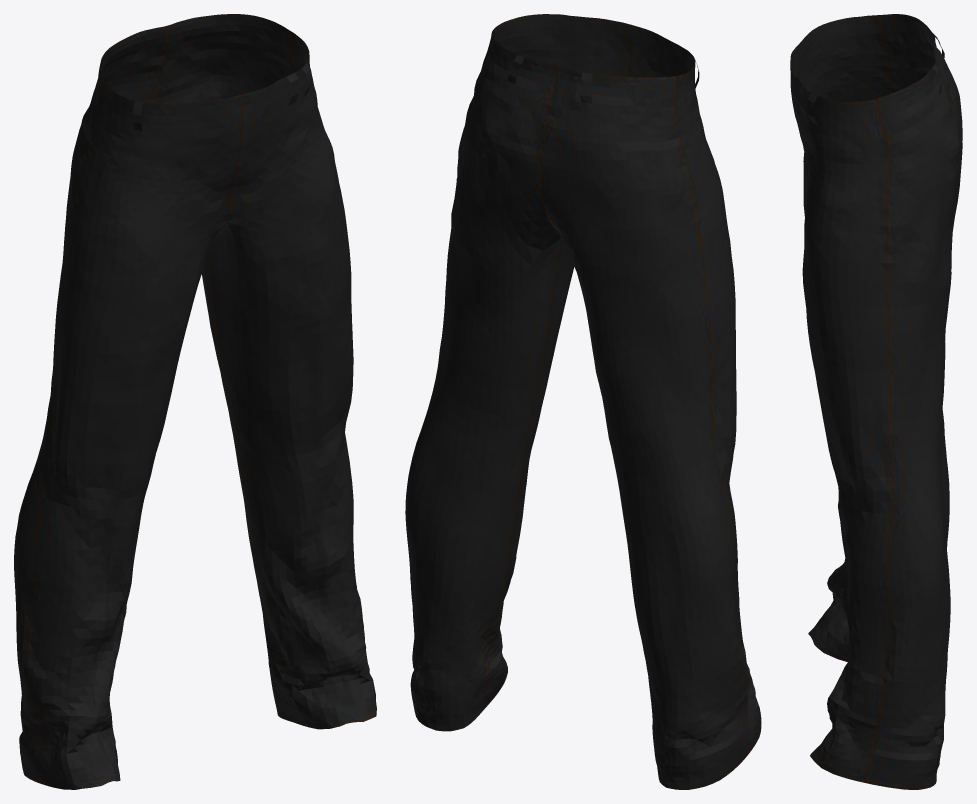
The model's file is mhw_mindfront_male_trousers_2.glb.
3 views of the same model, side by side, from view 1: azimuth 30°, elevation 25°; view 2: azimuth 150°, elevation 25°; view 3: azimuth 270°, elevation 25° (orthographic). The views are drawn at different scales.
Visible parts, largest first — view 1: mhw_mindfront_male_trousers_2; view 2: mhw_mindfront_male_trousers_2; view 3: mhw_mindfront_male_trousers_2.
Boxes of the visible parts, left/top/right/bottom form: mhw_mindfront_male_trousers_2: left=14, top=14, right=376, bottom=789; mhw_mindfront_male_trousers_2: left=405, top=14, right=761, bottom=789; mhw_mindfront_male_trousers_2: left=790, top=14, right=962, bottom=789.
Bounding box in the file's own units: 0.5392 × 1.1 × 0.2554.
Materials: 1 (1 with a texture image).
